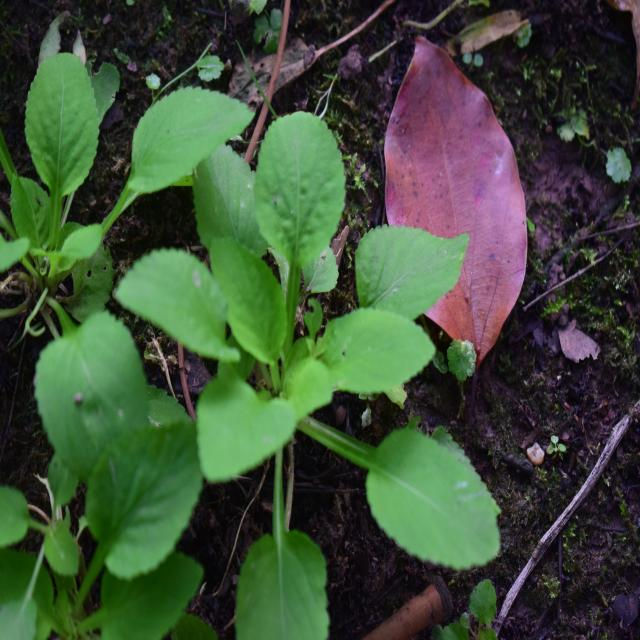Viola: (166, 106, 488, 570)
